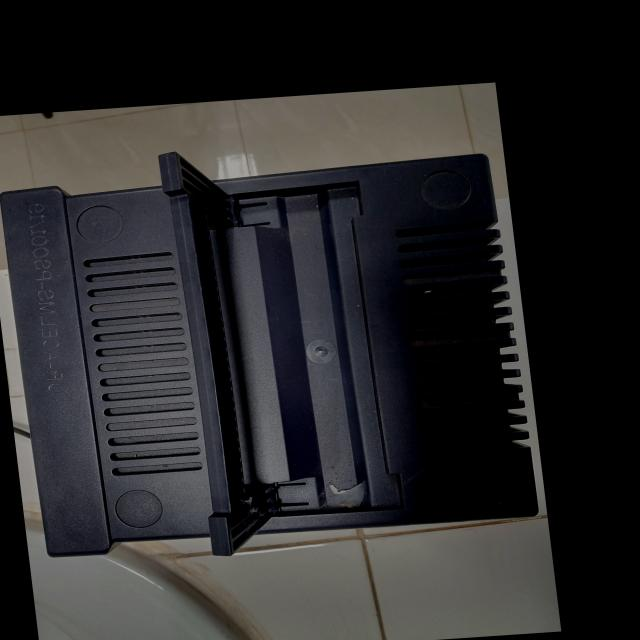Teslameter PS: (0, 119, 547, 565)
